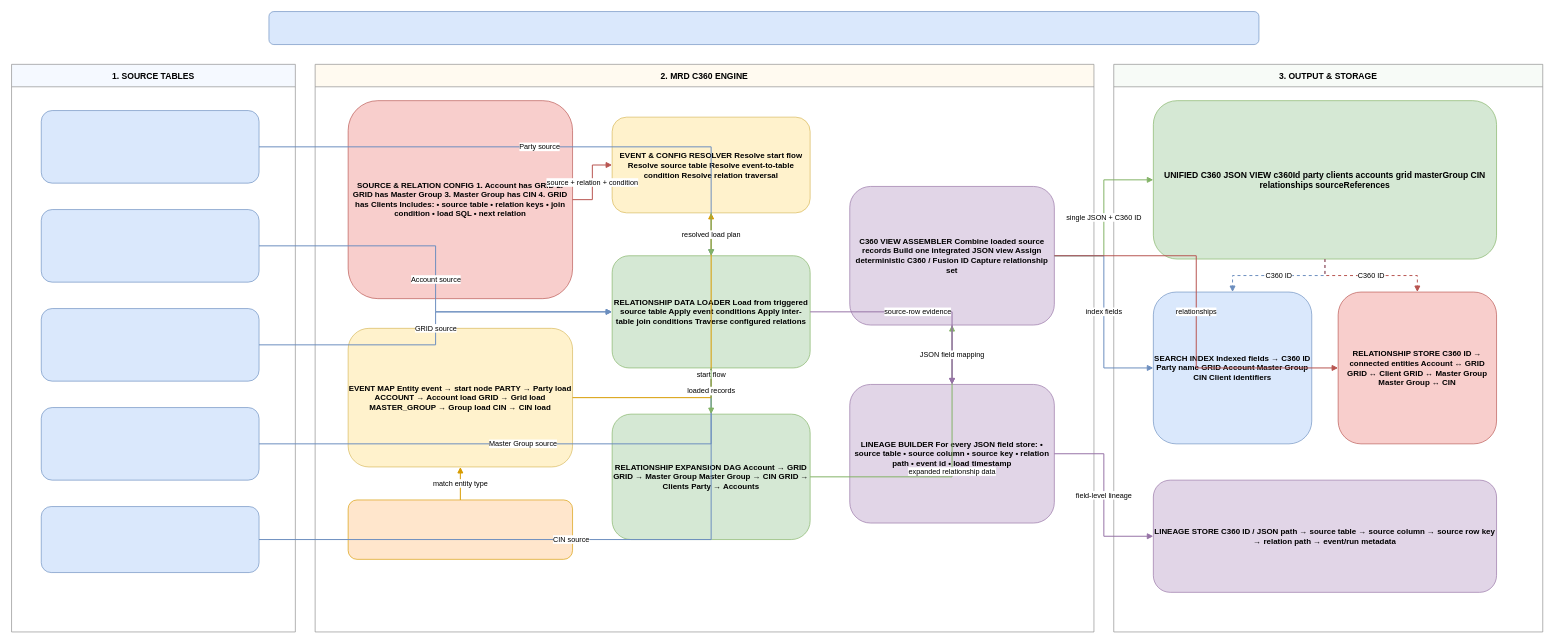
Some shapes in this 1554 by 644 pixel diagram are drawn without their labels. The centre of each missing label's shape, as x and y in pixels:
CIN / REFERENCE TABLE CIN reference attributes: (150,539)
CLIENT ACCOUNT TABLE account_id account_name grid: (150,245)
GRID TABLE grid client_id master_group_id: (150,344)
Incoming Event entityType + business key / loadRowId: (460,529)
MASTER GROUP TABLE master_group_id master_group_name CIN: (150,443)
MRD C360 — EVENT-DRIVEN RELATIONSHIP EXPANSION, JSON VIEW, INDEX & LINEAGE: (763,28)
PARTY TABLE party_id party_name client_grid: (150,146)
